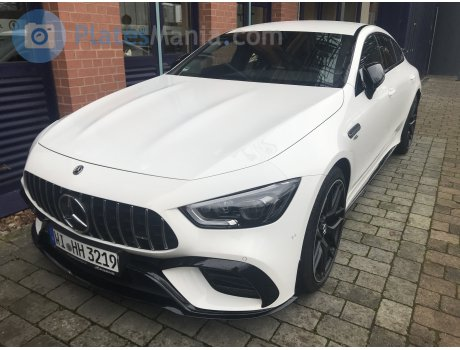License Plates: (57, 233, 112, 262)
